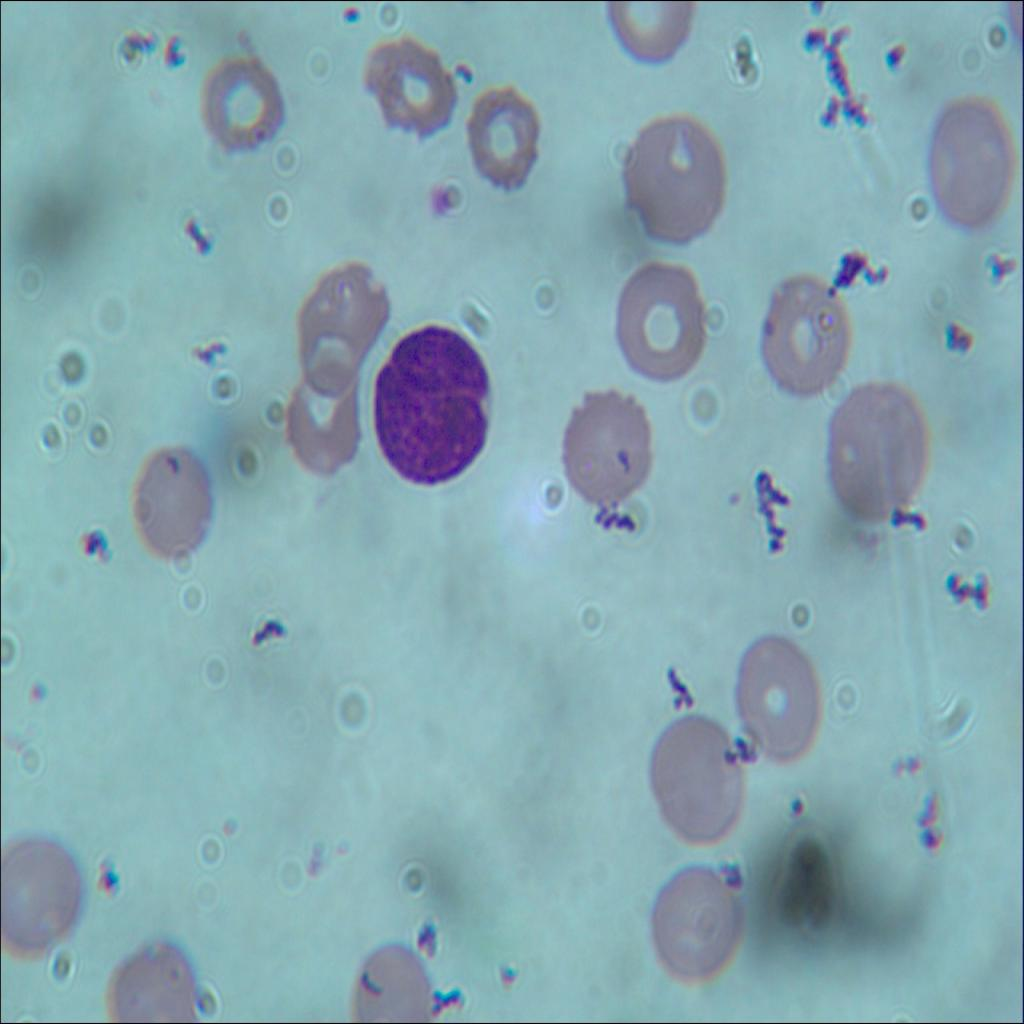Eritrosit: (826, 370, 930, 535), (639, 859, 759, 992), (628, 103, 726, 254), (564, 375, 654, 527), (644, 718, 749, 844), (279, 354, 374, 489), (758, 265, 849, 404), (929, 104, 1023, 234), (295, 247, 383, 384), (126, 444, 216, 570), (362, 28, 459, 141), (0, 832, 83, 962), (736, 634, 819, 764), (621, 254, 708, 375), (458, 78, 538, 195), (198, 50, 290, 144), (355, 941, 442, 1023), (608, 0, 694, 67)
Limfoblast: (370, 314, 498, 485)
Platelet: (424, 169, 473, 242), (14, 654, 54, 705), (779, 787, 822, 832), (878, 34, 920, 79), (486, 944, 522, 991), (89, 859, 129, 898), (754, 307, 786, 345), (329, 1, 368, 32), (449, 48, 473, 95), (726, 474, 746, 520), (250, 118, 268, 157)
